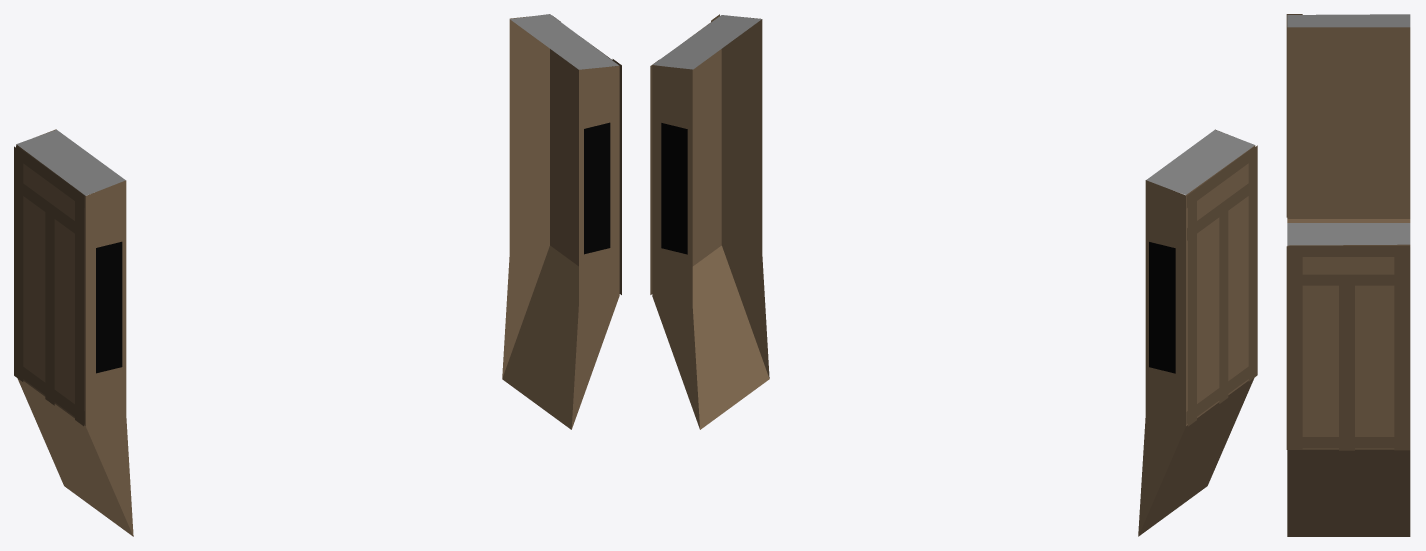
Rendered from ltsr-duckets.dae.
3 views of the same model, side by side, from view 1: azimuth 30°, elevation 25°; view 2: azimuth 150°, elevation 25°; view 3: azimuth 270°, elevation 25° (orthographic). The views are drawn at different scales.
Visible parts, largest first — view 1: Plane_123_001, Plane_123_001_001, Plane_405_001, Plane_405, Plane_121_001_001, Plane_122_001_001, Plane_120_001_001, Plane_398_004, Plane_122_001; view 2: Plane_123_001, Plane_123_001_001, Plane_023_001, Plane_023, Plane_122_001_001, Plane_121_001_001, Plane_120_001_001, Plane_398_004; view 3: Plane_123_001, Plane_123_001_001, Plane_122_001, Plane_121_001, Plane_120_001, Plane_398_002, Plane_398, Plane_398_001, Plane_122_001_001.
Part boxes in pixels (bbox=[...]): Plane_123_001: bbox=[502, 14, 619, 429]; Plane_123_001_001: bbox=[16, 129, 133, 536]; Plane_405_001: bbox=[96, 241, 122, 373]; Plane_405: bbox=[584, 122, 610, 254]; Plane_121_001_001: bbox=[14, 146, 23, 381]; Plane_122_001_001: bbox=[75, 190, 83, 426]; Plane_120_001_001: bbox=[45, 202, 54, 405]; Plane_398_004: bbox=[16, 145, 84, 207]; Plane_122_001: bbox=[612, 59, 621, 294]; Plane_123_001: bbox=[652, 15, 769, 429]; Plane_123_001_001: bbox=[1138, 129, 1255, 536]; Plane_023_001: bbox=[1149, 242, 1175, 373]; Plane_023: bbox=[661, 123, 687, 254]; Plane_122_001_001: bbox=[1248, 145, 1257, 381]; Plane_121_001_001: bbox=[1188, 191, 1196, 426]; Plane_120_001_001: bbox=[1219, 201, 1228, 403]; Plane_398_004: bbox=[1186, 146, 1254, 208]; Plane_123_001: bbox=[1287, 223, 1410, 536]; Plane_123_001_001: bbox=[1287, 14, 1410, 222]; Plane_122_001: bbox=[1286, 246, 1302, 449]; Plane_121_001: bbox=[1394, 247, 1410, 450]; Plane_120_001: bbox=[1339, 276, 1354, 450]; Plane_398_002: bbox=[1289, 246, 1409, 256]; Plane_398: bbox=[1302, 274, 1394, 285]; Plane_398_001: bbox=[1302, 437, 1394, 448]; Plane_122_001_001: bbox=[1286, 14, 1302, 217].
Size of the model in its own units: 2.06 by 0.4687 by 1.31.
